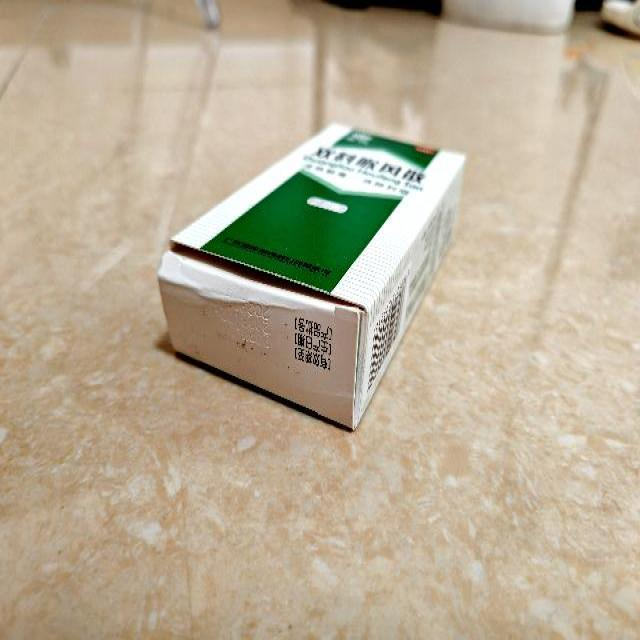box: (158, 122, 466, 430)
